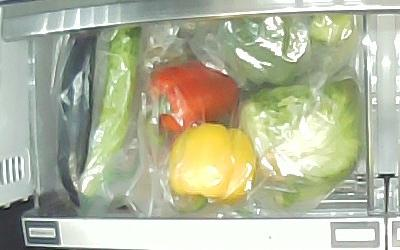broccoli_vinyl: (204, 14, 356, 85)
cucumber_vinyl: (79, 26, 142, 198)
eggplant_vinyl: (56, 30, 97, 212)
lettuce_vinyl: (240, 79, 362, 208)
paprika_vinyl: (166, 123, 254, 213), (144, 62, 239, 138)
